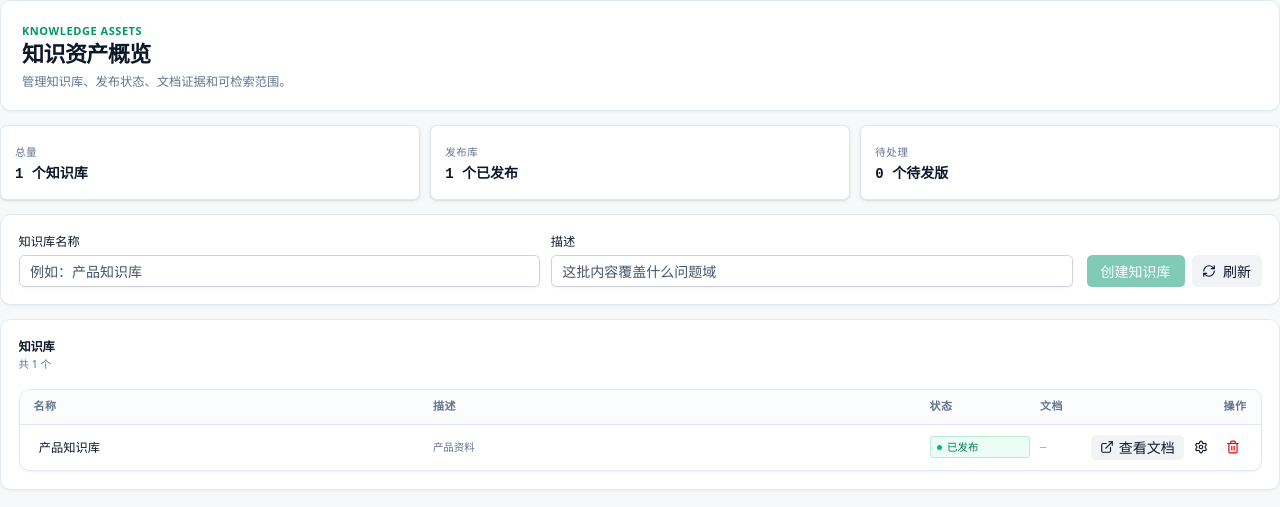
Test case: knowledge base pages › navigates from compact knowledge base list to a document detail page
Click the button with aria-label "查看文档 产品知识库": (1137, 447) [1091,435,1184,460]
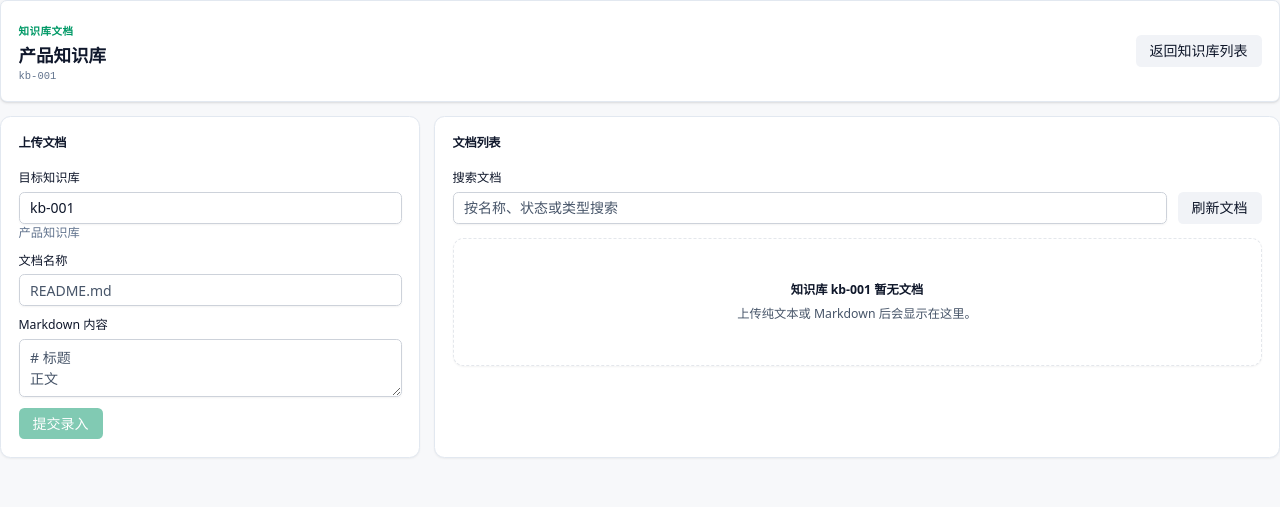
Result: the heading "产品知识库" is shown at [18,43,106,68]
Result: the button "返回知识库列表" is shown at [1136,35,1262,67]
Result: the button "创建知识库" is gone
